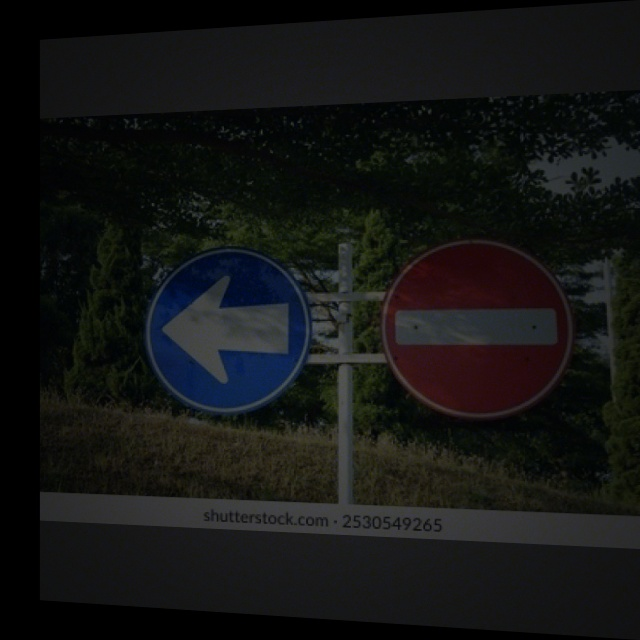Compulsory_Turn_Left: (142, 244, 311, 415)
